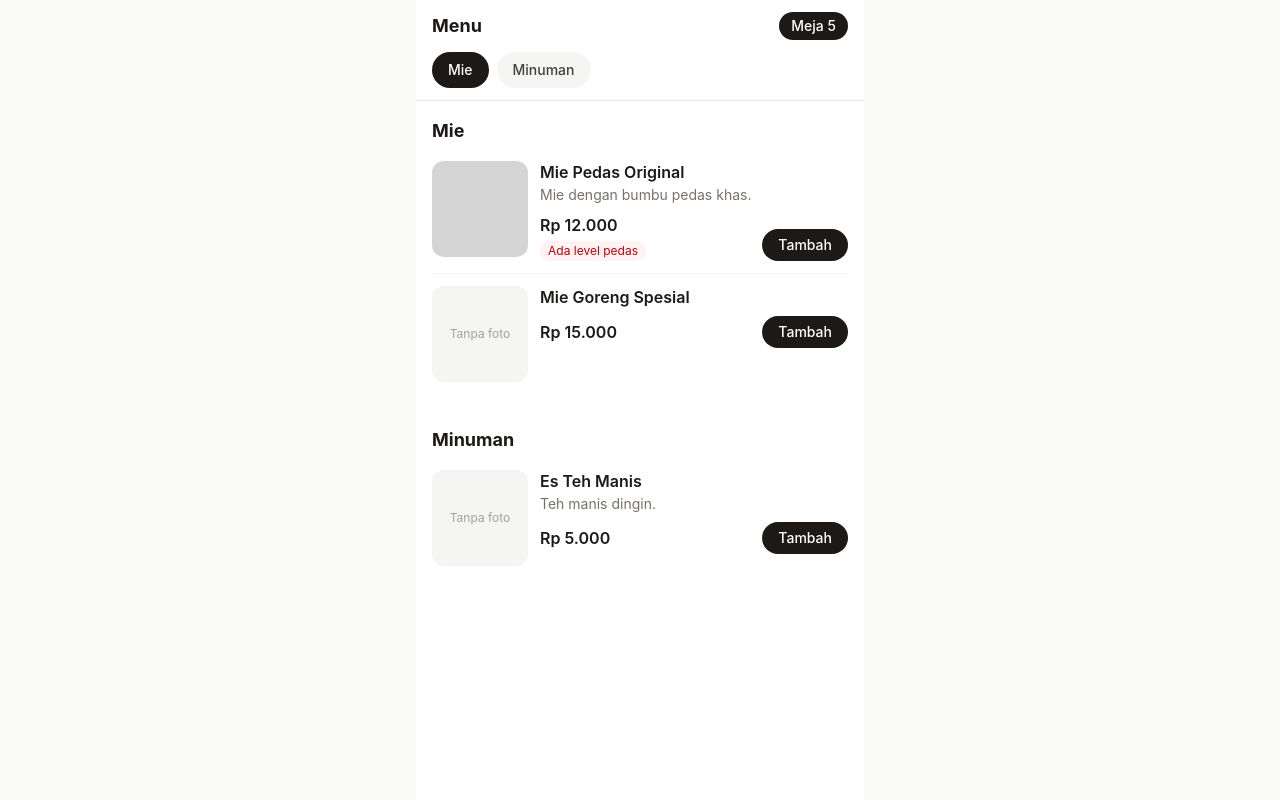
keranjang di halaman menu › menambah menu tanpa level pedas dengan jumlah dan memunculkan bar keranjang
Click the button with aria-label "Tambah Es Teh Manis".
click(805, 538)  # box [762,522,848,554]
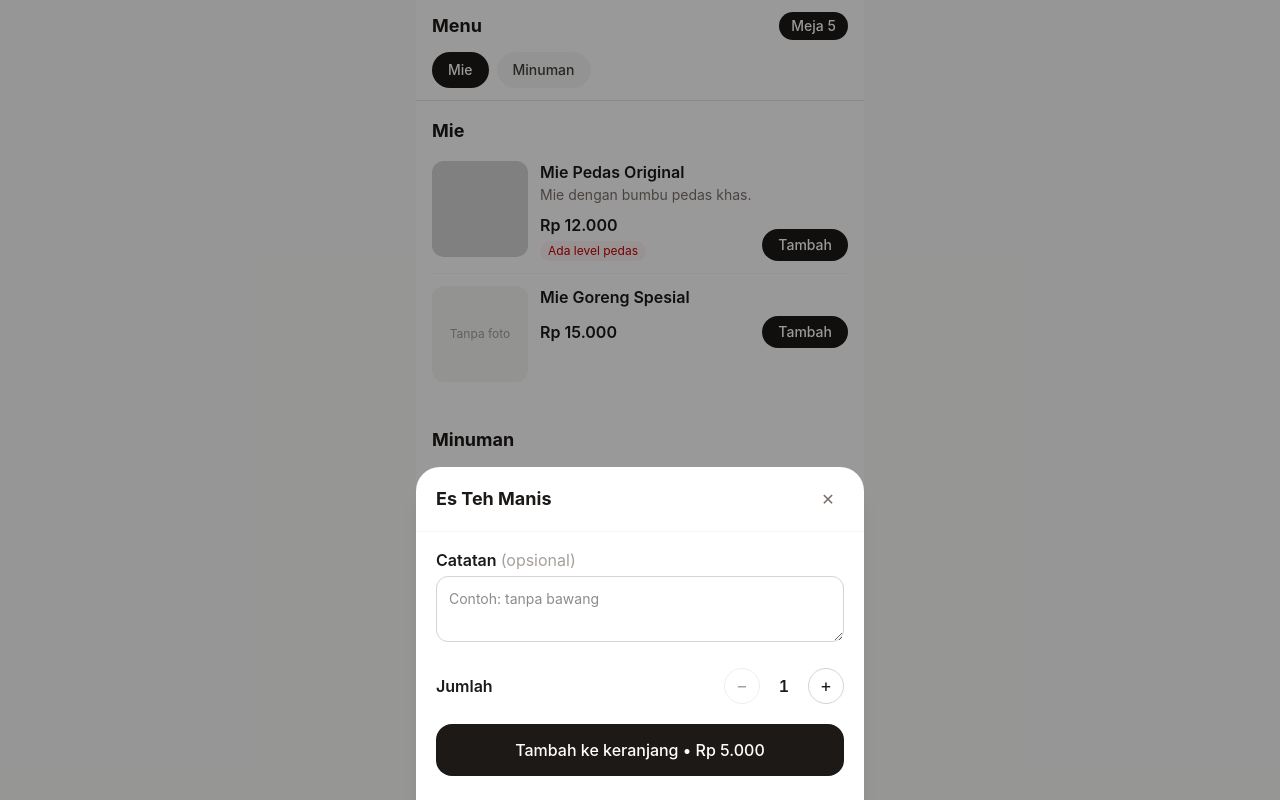
Click the button named "Tambah jumlah Es Teh Manis".
click(826, 686)  # box [808,668,844,704]
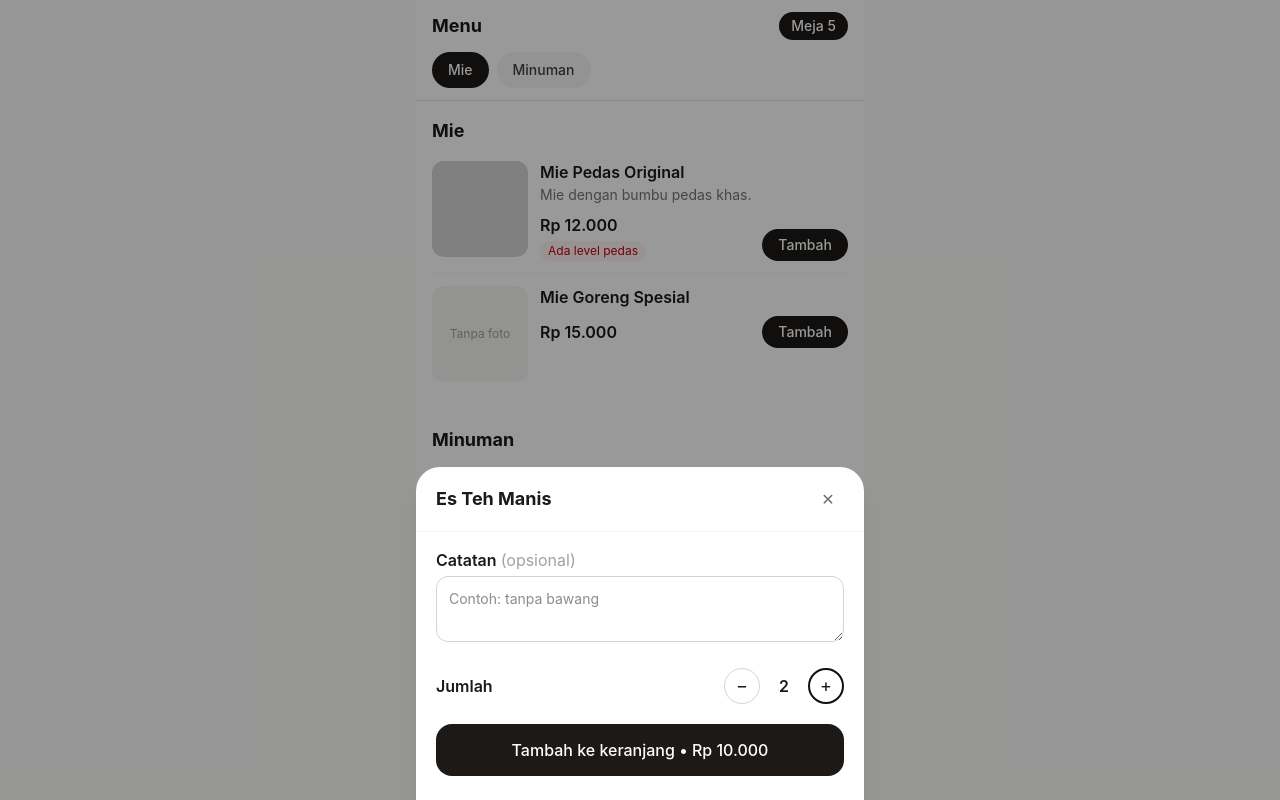
Click the button "Tambah ke keranjang • Rp 10.000".
click(640, 750)  # box [436,724,844,776]
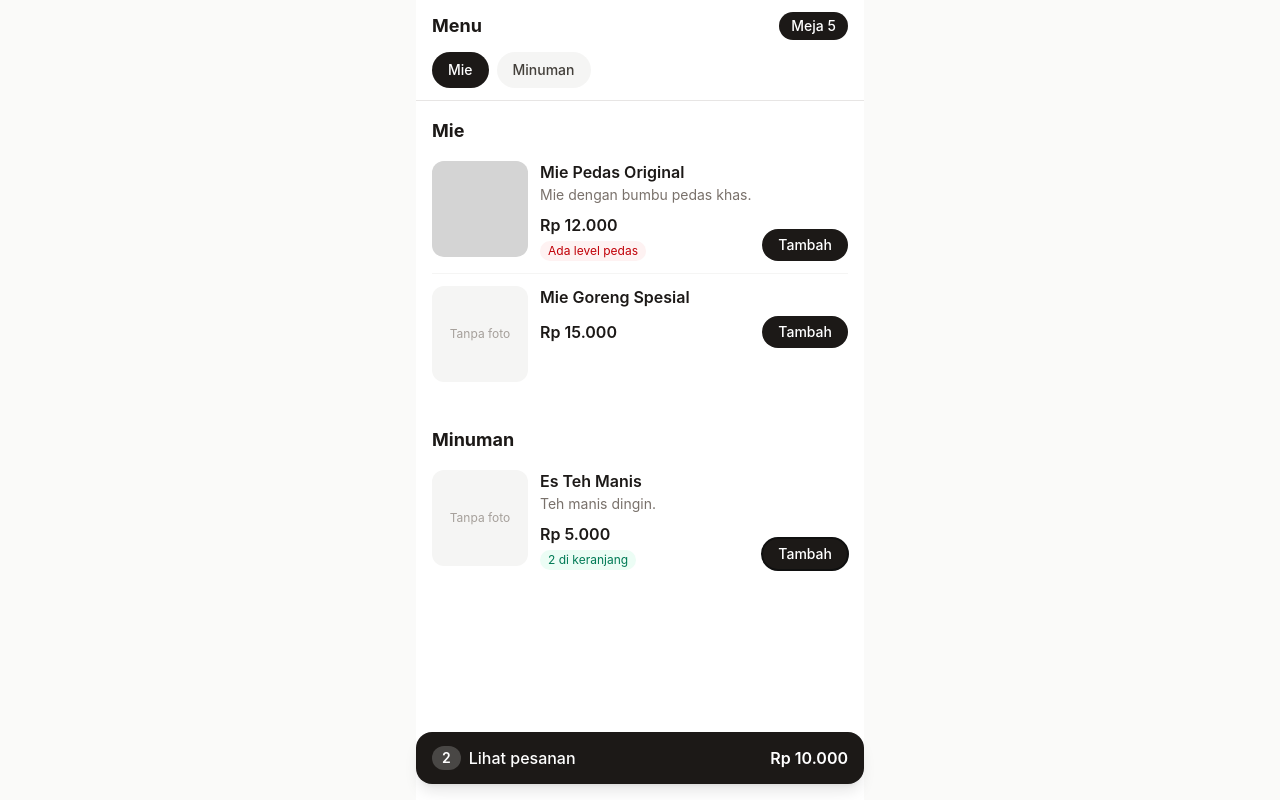
Result: the dialog is gone
Result: the button "2 Lihat pesanan Rp 10.000" is shown at [416,732,864,784]
Result: the text "2 di keranjang" is shown at [540,550,636,570]
